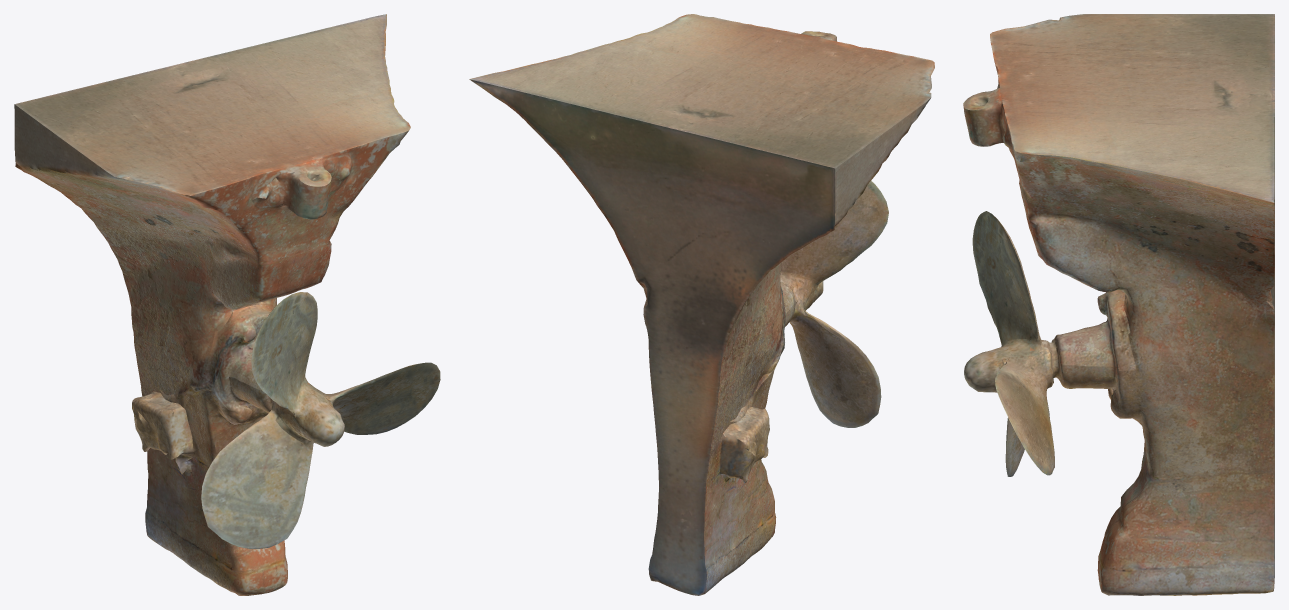
Rendered from Propeller.glb.
3 views of the same model, side by side, from view 1: azimuth 30°, elevation 25°; view 2: azimuth 150°, elevation 25°; view 3: azimuth 270°, elevation 25° (orthographic). The views are drawn at different scales.
Visible parts, largest first — view 1: Object_2, Object_3; view 2: Object_2, Object_3; view 3: Object_2, Object_3.
Part boxes in pixels (x1,y1,x2,y2): Object_2: (14,14,440,595); Object_3: (132,301,433,542); Object_2: (469,14,934,595); Object_3: (719,186,881,482); Object_2: (963,14,1274,595); Object_3: (975,213,1274,471).
Size of the model in its own units: 0.9391 by 1.14 by 0.6561.
Materials: 1 (1 with a texture image).
